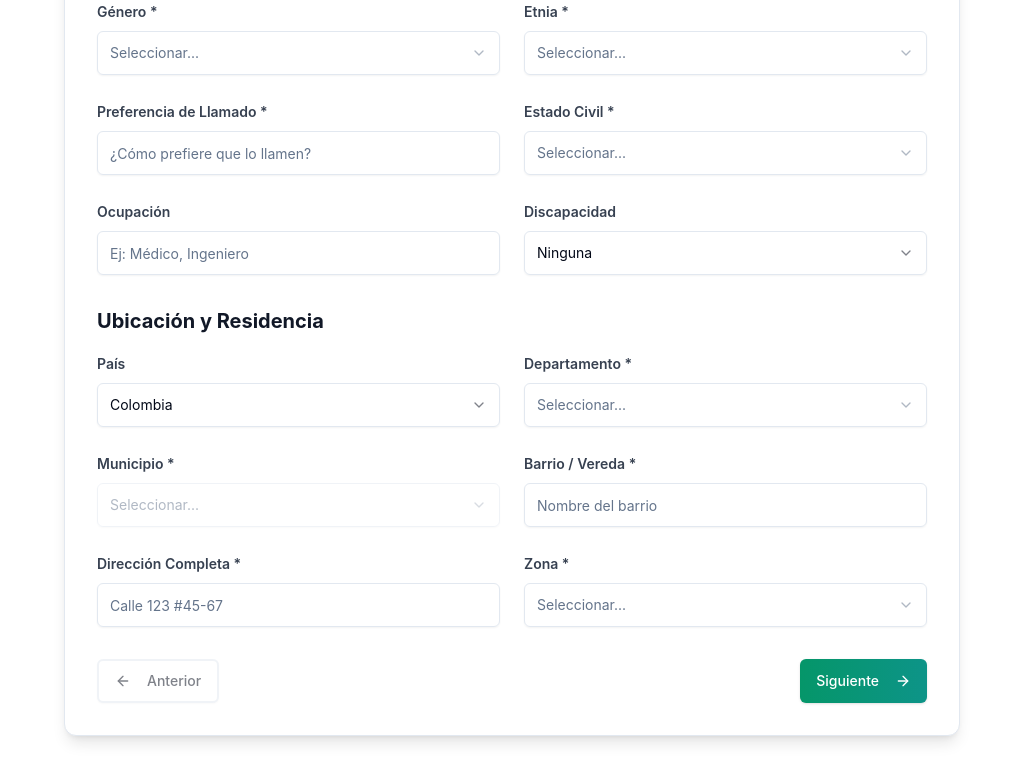
Test: PacienteStepperForm - Ubicación › debe cambiar a Input de texto cuando el país no es Colombia
(page scrolled)
Click the dropdown labelled "Colombia": (141, 404) [97,383,500,427]
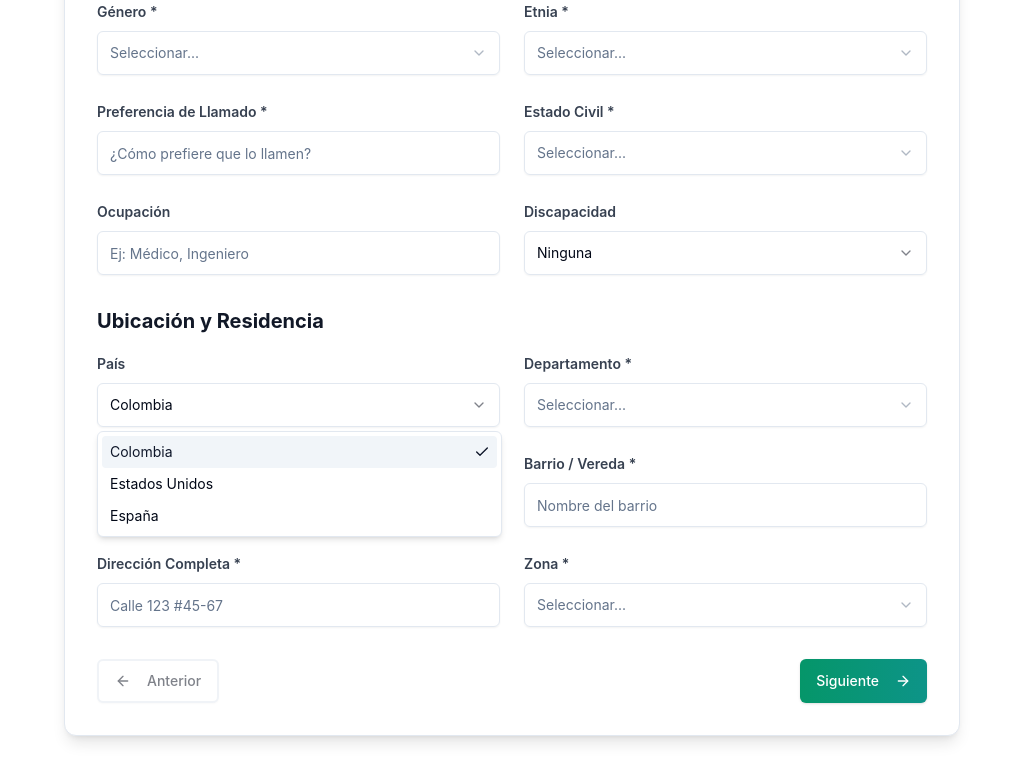
Click the option "Estados Unidos": (162, 484) [110,475,213,492]
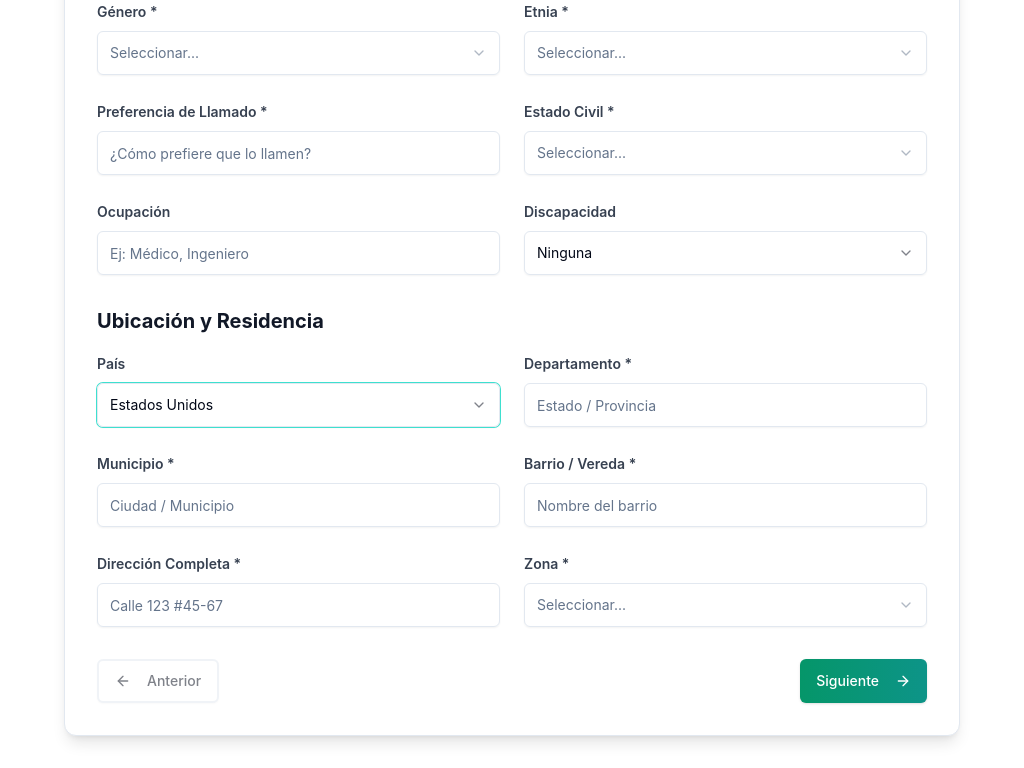
Result: the field with placeholder "Estado / Provincia" is shown at [524,383,927,427]
Result: the field with placeholder "Ciudad / Municipio" is shown at [97,483,500,527]
